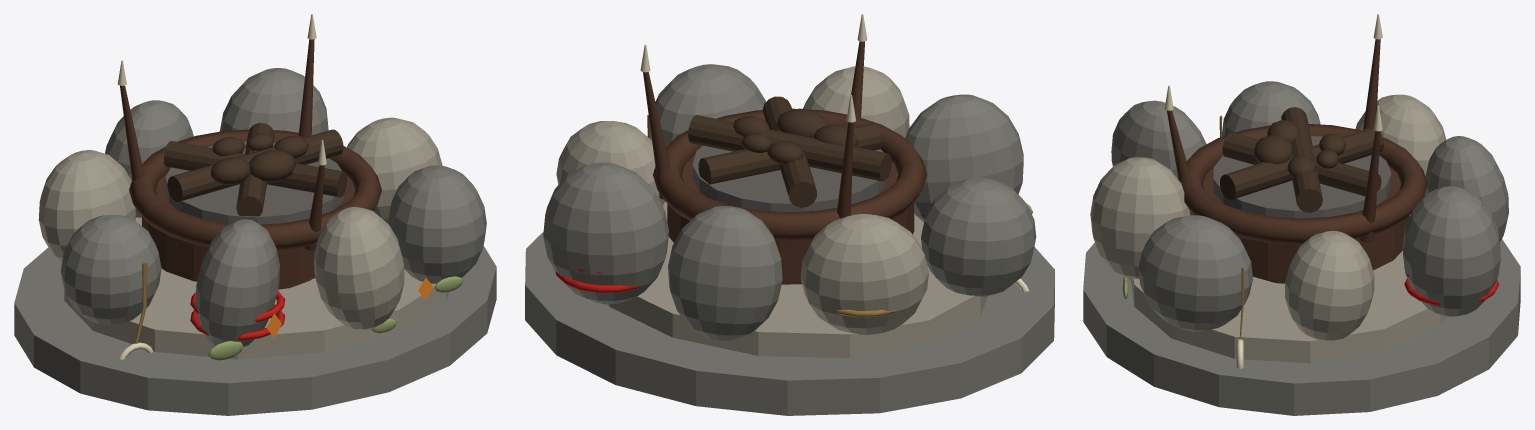
Rendered from burial_altar.glb.
3 renders of one model, left to right at view 1: azimuth 30°, elevation 25°; view 2: azimuth 150°, elevation 25°; view 3: azimuth 270°, elevation 25°, orthographic. The views are drawn at different scales.
Visible parts, largest first — view 1: burial_altar; view 2: burial_altar; view 3: burial_altar.
Boxes of the visible parts, x1=… form: burial_altar: x1=14, y1=14, x2=496, y2=415; burial_altar: x1=525, y1=14, x2=1054, y2=415; burial_altar: x1=1083, y1=14, x2=1520, y2=415.
Size of the model in its own units: 1.95 by 1.08 by 1.71.
